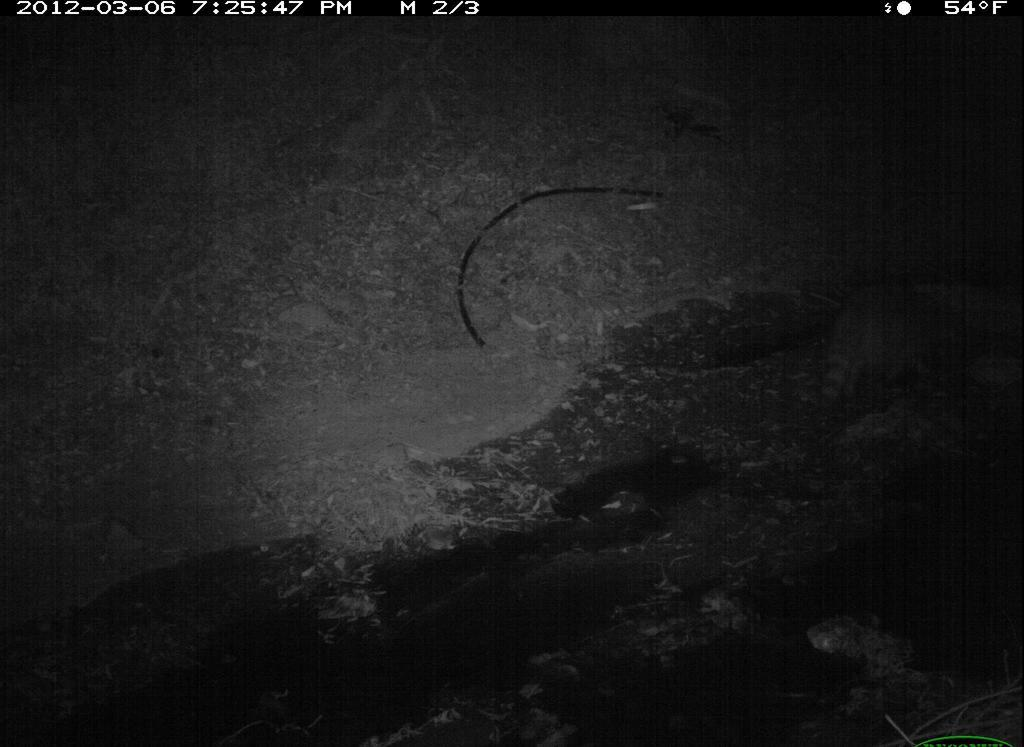raccoon: (801, 265, 1007, 441)
